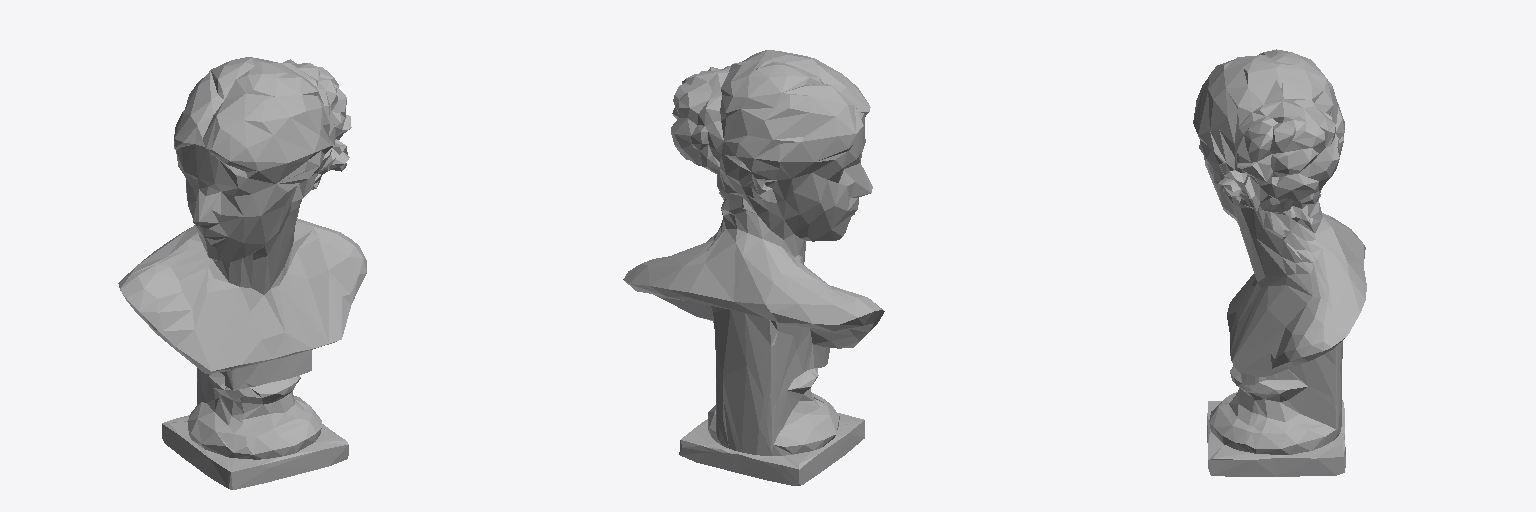
File: loewenfeld.octaflat.obj
3 views of the same model, side by side, from view 1: azimuth 30°, elevation 25°; view 2: azimuth 150°, elevation 25°; view 3: azimuth 270°, elevation 25° (orthographic).
Bounding box in the file's own units: 348 × 532 × 215.